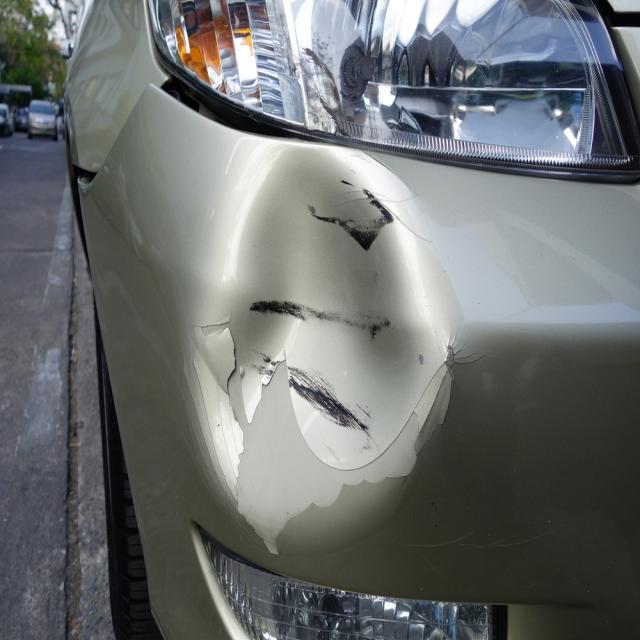Cabossage: (197, 138, 447, 566)
Dechirure: (71, 156, 112, 204)
Rayure: (200, 178, 476, 534)
